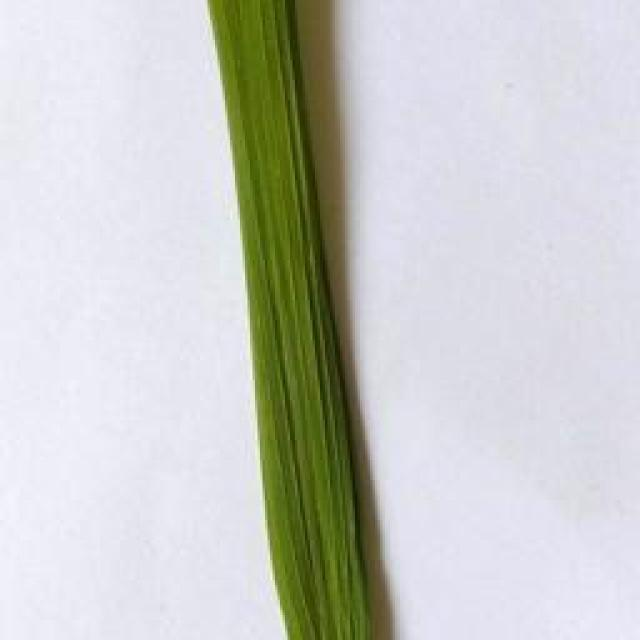Healthy-Plant: (204, 0, 384, 640)
